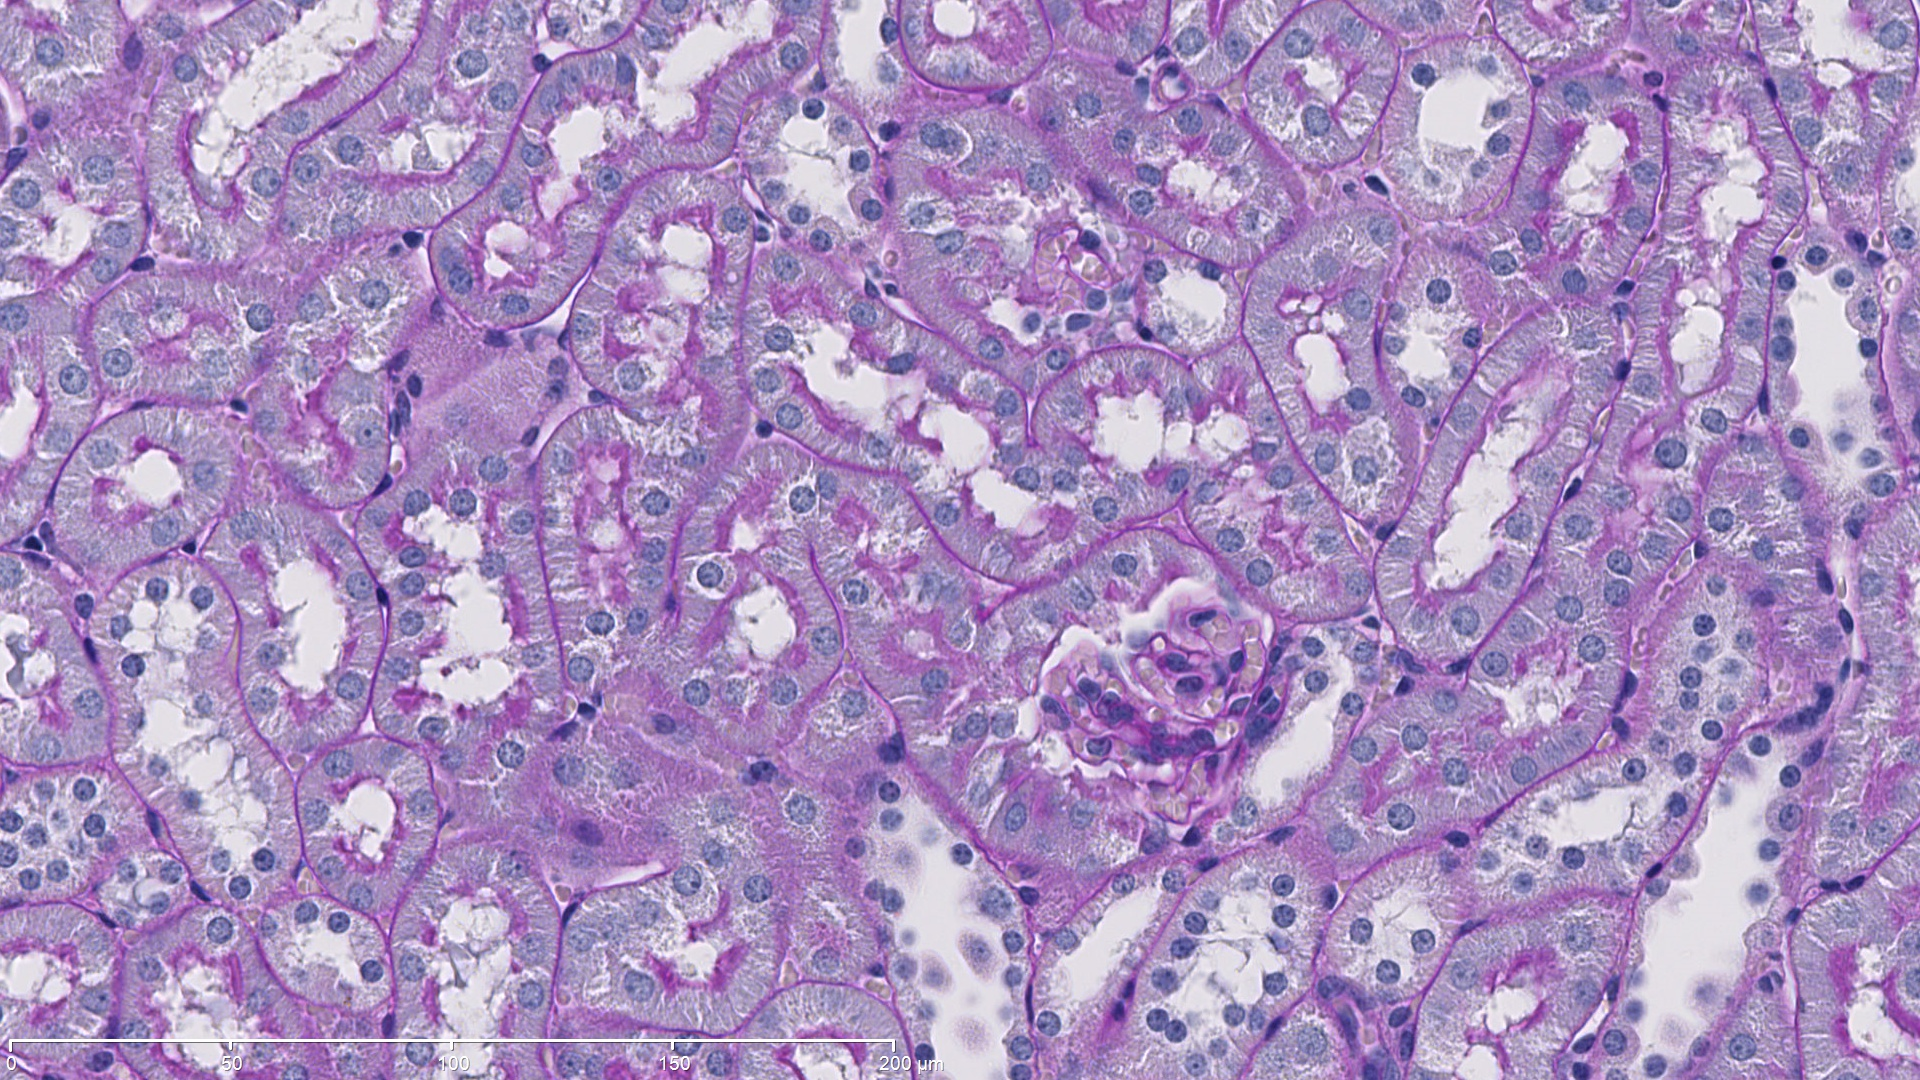Glomeruli: (1023, 583, 1342, 843)
